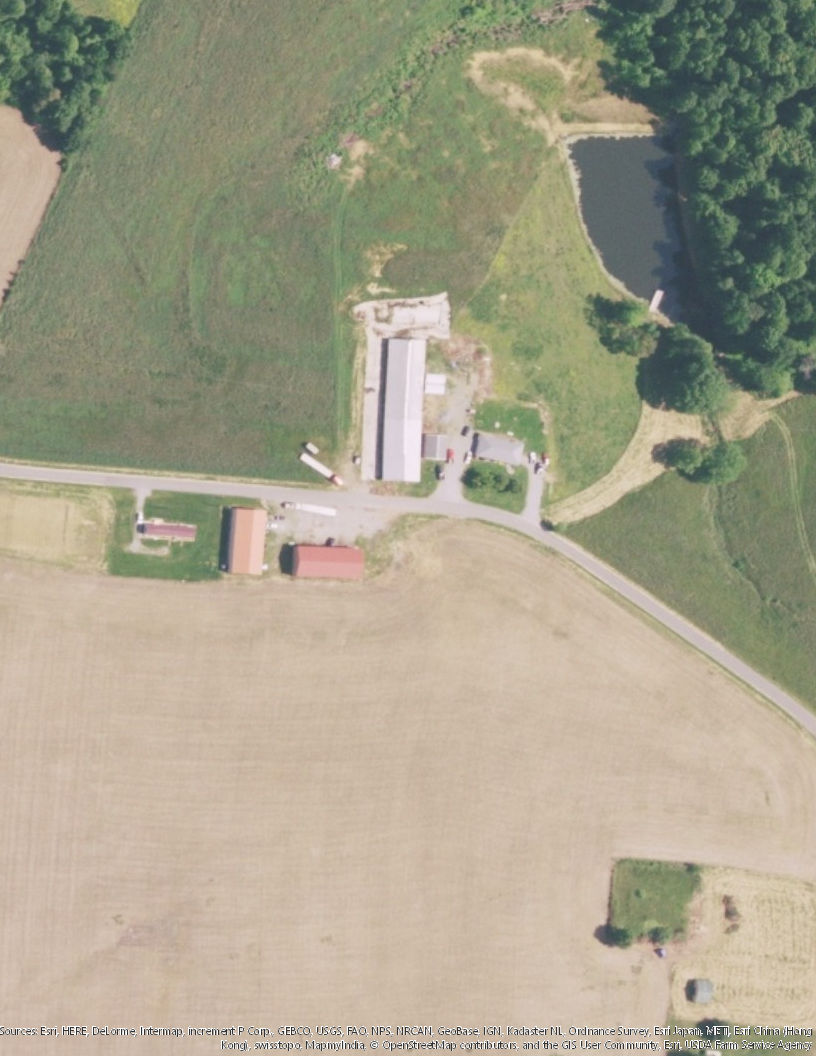cafo: (374, 330, 443, 486)
